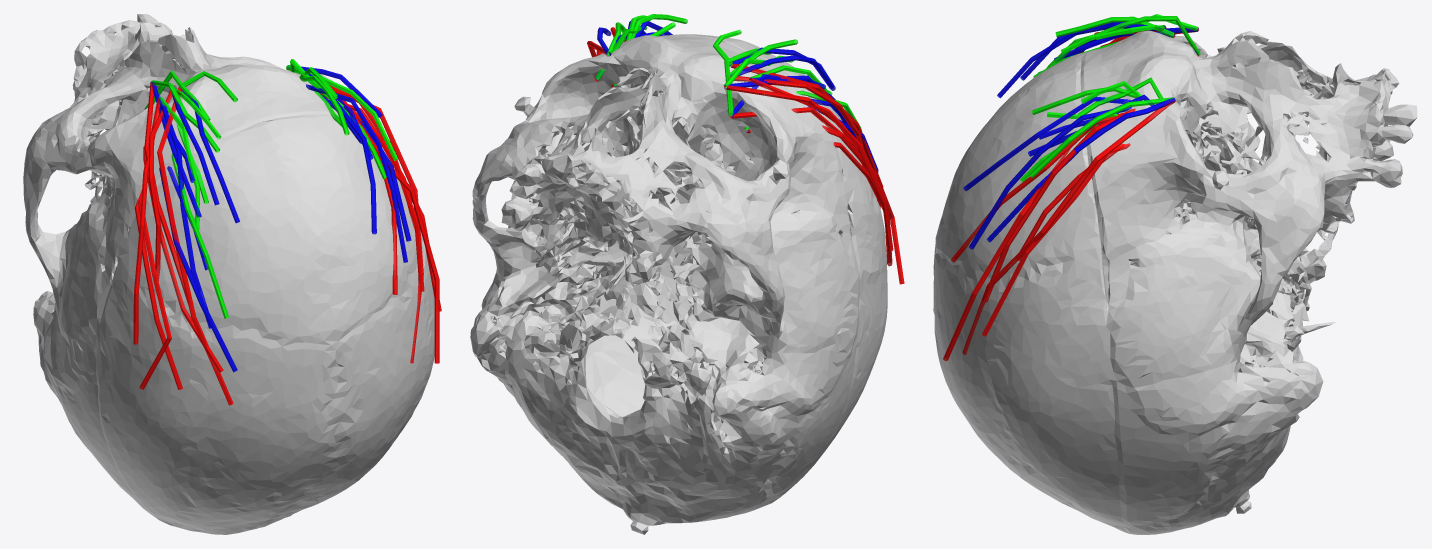
File: Combined-supraorbital-projections-model.obj
3 renders of one model, left to right at view 1: azimuth 30°, elevation 25°; view 2: azimuth 150°, elevation 25°; view 3: azimuth 270°, elevation 25°, orthographic. The views are drawn at different scales.
Parts seen in each view (by area): view 1: grp1, grp30093, grp30633, grp30543, grp30603, grp29643, grp30453, grp29553, grp30153, grp29733, grp30183, grp29913 (+12 smaller); view 2: grp1, grp30633, grp30453, grp29553, grp30093, grp29523, grp29913, grp29733; view 3: grp1, grp29643, grp30183, grp30543, grp30153, grp30363, grp29793, grp29583, grp29823, grp30063, grp29613, grp30003 (+2 smaller).
Boxes of the visible parts, left/top/right/bottom form: grp1: left=23, top=14, right=434, bottom=534; grp30093: left=157, top=86, right=233, bottom=405; grp30633: left=133, top=97, right=160, bottom=344; grp30543: left=387, top=162, right=439, bottom=363; grp30603: left=158, top=96, right=210, bottom=328; grp29643: left=286, top=69, right=423, bottom=363; grp30453: left=137, top=190, right=171, bottom=389; grp29553: left=148, top=91, right=172, bottom=280; grp30153: left=318, top=92, right=407, bottom=262; grp29733: left=134, top=202, right=182, bottom=389; grp30183: left=333, top=90, right=424, bottom=291; grp29913: left=144, top=81, right=187, bottom=302; grp1: left=470, top=34, right=887, bottom=534; grp30633: left=749, top=77, right=893, bottom=251; grp30453: left=822, top=125, right=904, bottom=284; grp29553: left=730, top=76, right=868, bottom=172; grp30093: left=730, top=63, right=883, bottom=208; grp29523: left=730, top=55, right=833, bottom=89; grp29913: left=724, top=85, right=859, bottom=152; grp29733: left=746, top=129, right=892, bottom=266; grp1: left=933, top=30, right=1417, bottom=534; grp29643: left=962, top=99, right=1175, bottom=354; grp30183: left=982, top=108, right=1135, bottom=302; grp30543: left=943, top=148, right=1070, bottom=361; grp30153: left=969, top=107, right=1131, bottom=249; grp30363: left=982, top=143, right=1130, bottom=336; grp29793: left=963, top=96, right=1130, bottom=190; grp29583: left=1029, top=97, right=1173, bottom=177; grp29823: left=951, top=112, right=1123, bottom=262; grp30063: left=997, top=22, right=1161, bottom=98; grp29613: left=1074, top=97, right=1175, bottom=152; grp30003: left=1016, top=143, right=1124, bottom=260.
Bounding box in the file's own units: 145 × 197 × 180.
